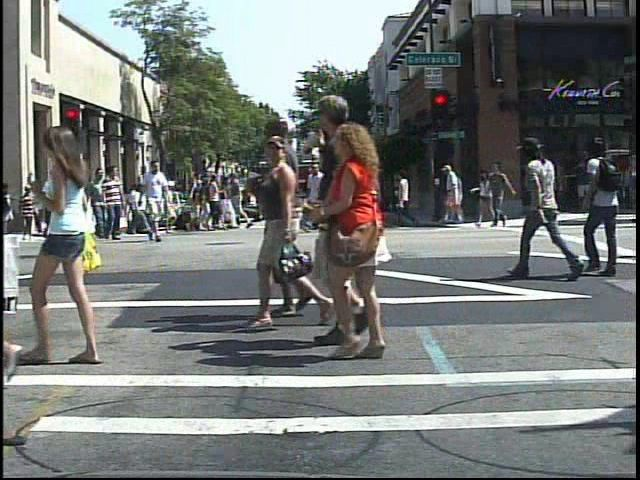person: (285, 89, 409, 346), (22, 117, 123, 372), (319, 117, 417, 359), (518, 126, 579, 285), (576, 129, 635, 284), (138, 160, 172, 243), (40, 167, 70, 245), (102, 161, 128, 237), (443, 162, 467, 225), (22, 182, 38, 243), (91, 182, 112, 221)
